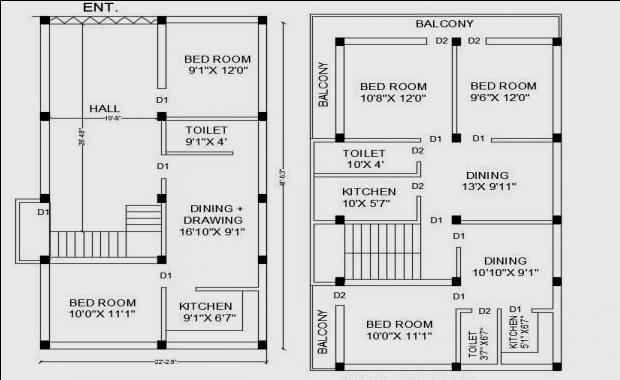Blueprint: (304, 7, 566, 374), (33, 7, 270, 354)
wall: (307, 136, 422, 373), (193, 261, 268, 343), (548, 40, 562, 134), (46, 339, 158, 350), (341, 276, 452, 287), (342, 361, 452, 372), (37, 20, 50, 112), (332, 43, 345, 135), (47, 254, 158, 264), (256, 22, 268, 112), (162, 339, 260, 350), (165, 13, 259, 24), (550, 282, 562, 363), (38, 262, 50, 342), (458, 361, 554, 371), (154, 22, 168, 90), (550, 138, 562, 217), (343, 35, 429, 46), (38, 119, 50, 194), (458, 217, 554, 226), (256, 118, 267, 196), (483, 34, 554, 46), (342, 135, 422, 145), (162, 114, 259, 122), (333, 302, 345, 363), (255, 200, 268, 255), (550, 221, 562, 278), (489, 134, 554, 144), (342, 217, 422, 225), (450, 44, 456, 134), (494, 306, 503, 366), (452, 308, 461, 364), (160, 200, 168, 258), (158, 284, 166, 341), (158, 117, 166, 157), (412, 192, 422, 224), (452, 244, 461, 278), (158, 175, 168, 196), (452, 305, 473, 314), (529, 306, 555, 312)
